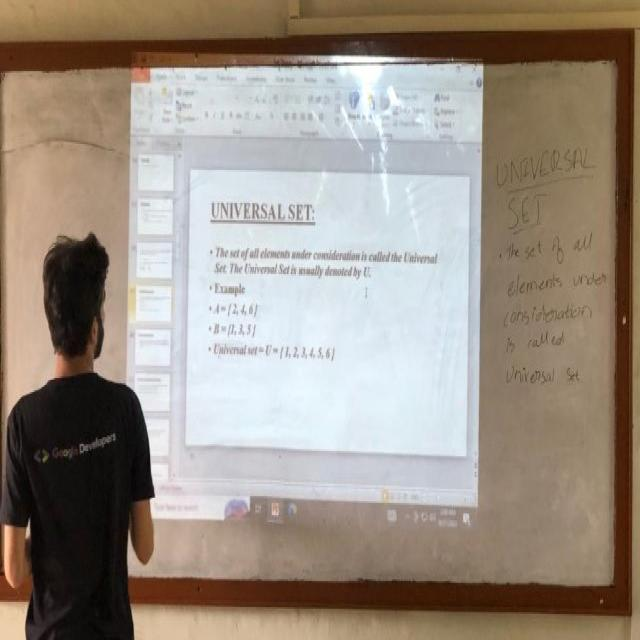Instructor: (7, 208, 132, 640)
Slide: (125, 62, 485, 546)
White-board: (0, 42, 629, 603)
